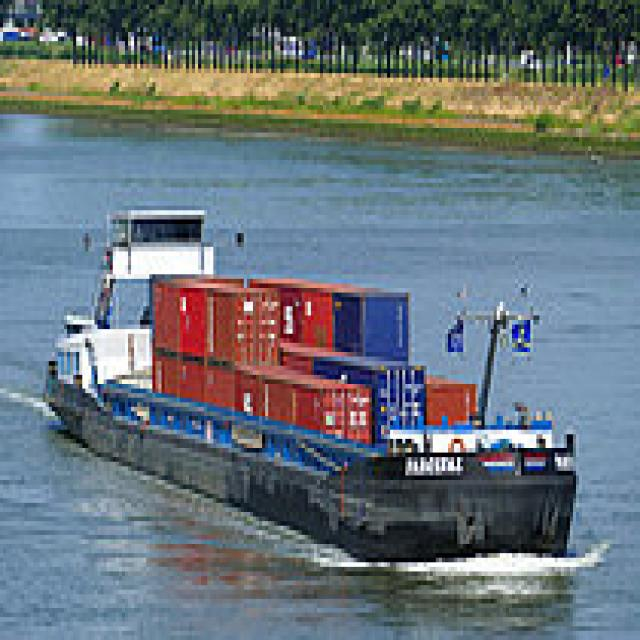Cargo: (37, 201, 579, 558)
